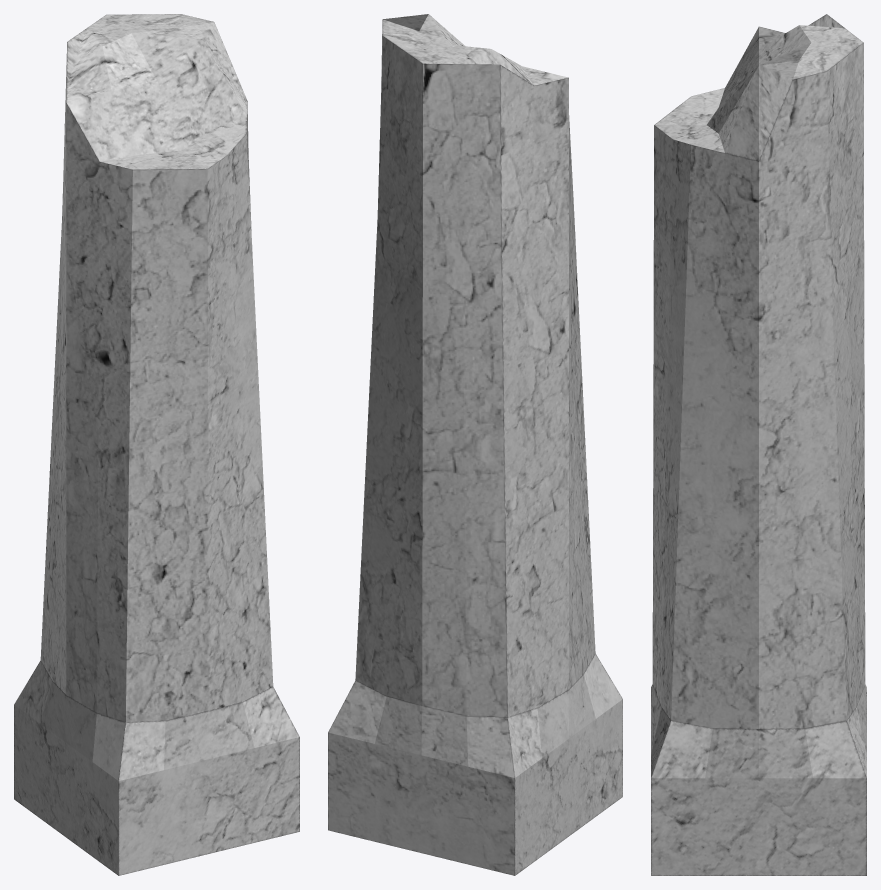
Rendered from col3.fbx.
3 renders of one model, left to right at view 1: azimuth 30°, elevation 25°; view 2: azimuth 150°, elevation 25°; view 3: azimuth 270°, elevation 25°, orthographic. The views are drawn at different scales.
Visible parts, largest first — view 1: pCube3; view 2: pCube3; view 3: pCube3.
Part boxes in pixels (x1,y1,x2,y2): pCube3: [14, 14, 299, 875]; pCube3: [328, 14, 622, 875]; pCube3: [651, 14, 866, 875].
Size of the model in its own units: 37.35 by 150 by 37.35.
1 material, 1 textured.
